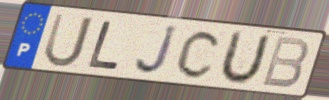B: (259, 35, 311, 90)
C: (174, 28, 224, 80)
J: (133, 24, 180, 77)
L: (86, 19, 123, 71)
U: (215, 29, 273, 86), (40, 11, 95, 69)
